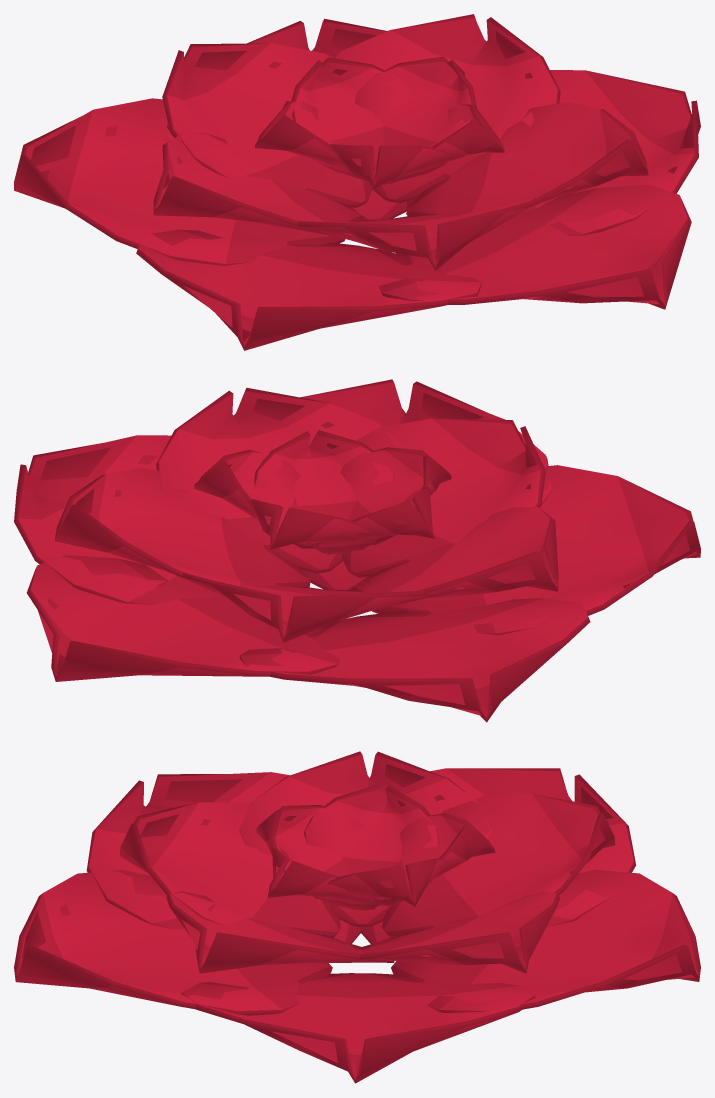
File: garden-rose-bloom-head-2-c41e39.glb
3 renders of one model, top to bottom at view 1: azimuth 30°, elevation 25°; view 2: azimuth 150°, elevation 25°; view 3: azimuth 270°, elevation 25°, orthographic. The views are drawn at different scales.
Visible parts, largest first — view 1: rose-bloom-head-2-c41e39; view 2: rose-bloom-head-2-c41e39; view 3: rose-bloom-head-2-c41e39.
Boxes of the visible parts, bbox=[...] form: rose-bloom-head-2-c41e39: bbox=[14, 14, 700, 350]; rose-bloom-head-2-c41e39: bbox=[14, 379, 700, 722]; rose-bloom-head-2-c41e39: bbox=[14, 751, 700, 1083].
Size of the model in its own units: 0.1716 by 0.0402 by 0.1783.
